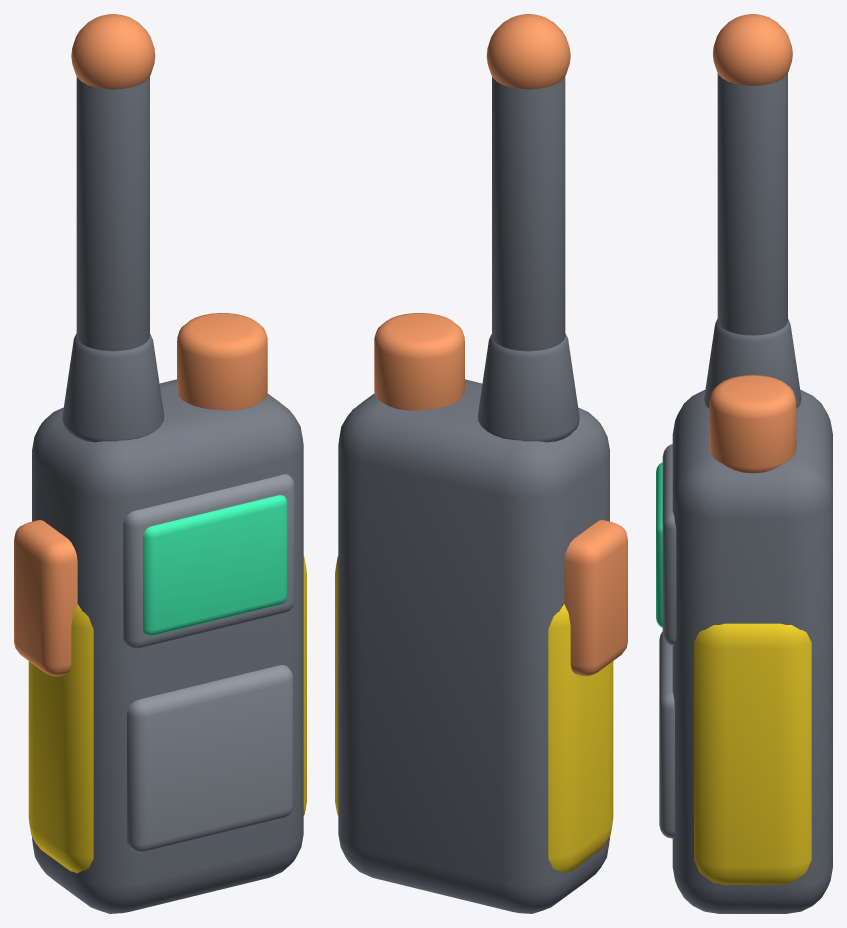
File: SM_WalkieTalkie.fbx
3 views of the same model, side by side, from view 1: azimuth 30°, elevation 25°; view 2: azimuth 150°, elevation 25°; view 3: azimuth 270°, elevation 25° (orthographic). The views are drawn at different scales.
Parts seen in each view (by area): view 1: SM_WalkieTalkie; view 2: SM_WalkieTalkie; view 3: SM_WalkieTalkie.
Part boxes in pixels (bbox=[...]): SM_WalkieTalkie: bbox=[14, 14, 306, 913]; SM_WalkieTalkie: bbox=[335, 14, 627, 913]; SM_WalkieTalkie: bbox=[656, 14, 832, 913].
Size of the model in its own units: 12.83 by 41.4 by 7.95.
